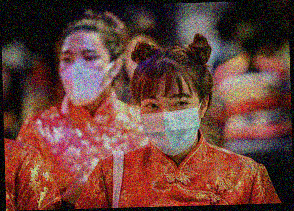with_mask: (141, 85, 203, 156), (57, 43, 112, 107)
